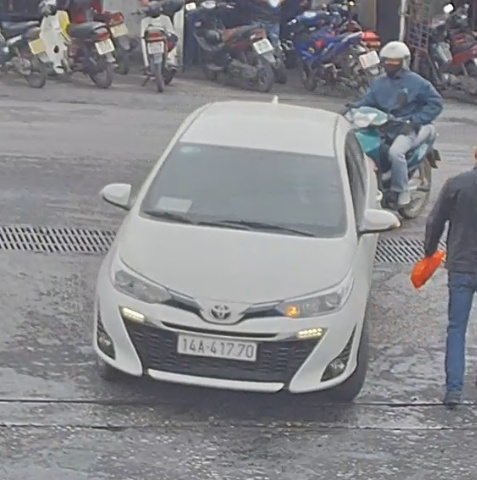vehicle plate: (174, 329, 260, 362)
